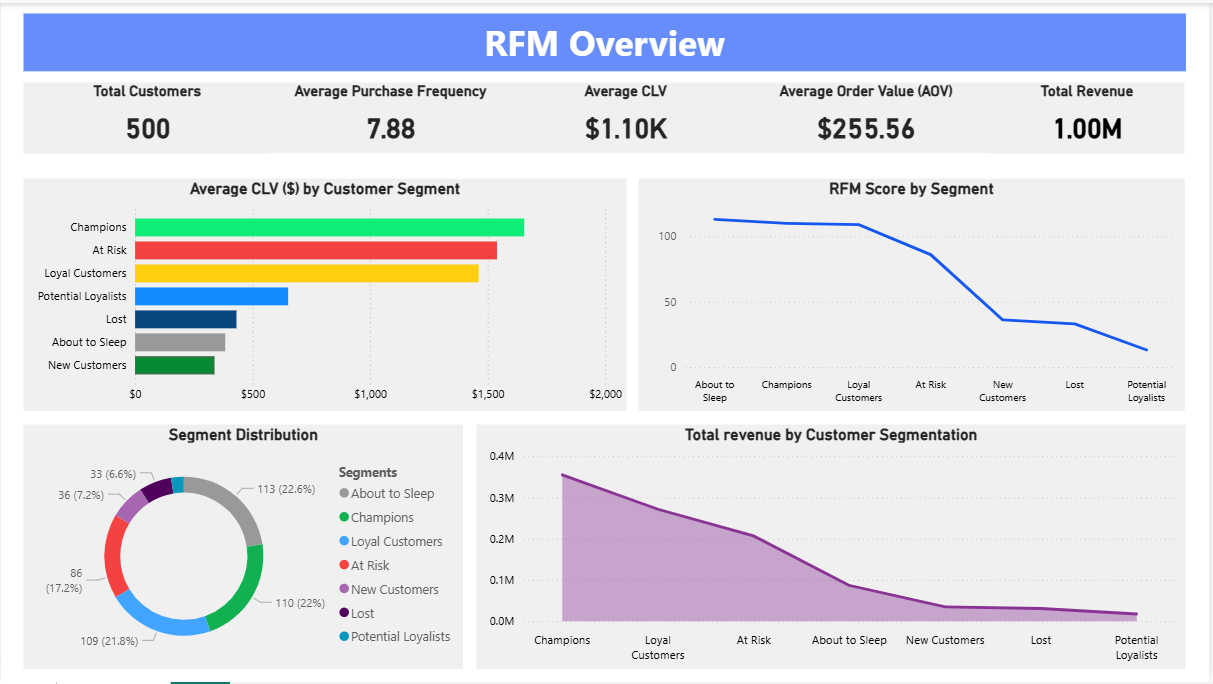

What the dashboard file says about the page in this screenshot:
{"tool":"powerbi","page":{"name":"Page 1","canvas":[1280,720],"ordinal":0},"visuals":[{"type":"card","title":"Total Customers","fields":{"Values":["CountNonNull(customer_lifetime_value.Customer_ID)"]},"box":[23.3,84.9,262.8,75.6],"z":0},{"type":"card","title":"Average CLV","fields":{"Values":["Avg(customer_lifetime_value.CLV_Gross_Revenue)"]},"box":[539.5,84.9,246.5,74.4],"z":1000},{"type":"donutChart","title":"Segment Distribution ","fields":{"Y":["CountNonNull(rfm_segmented.Customer_Segmentation)"],"Category":["rfm_segmented.Customer_Segmentation"]},"box":[23.3,447.7,466.3,259.3],"z":2000},{"type":"barChart","fields":{"Category":["rfm_segmented.Customer_Segmentation"],"Y":["Avg(customer_lifetime_value.CLV_Gross_Revenue)"]},"box":[23.3,186,639.5,246.5],"z":3000},{"type":"textbox","box":[23.3,10.5,1232.6,61.6],"z":4000},{"type":"card","title":"Average Purchase Frequency","fields":{"Values":["Avg(rfm_segmented.Purchase_Frequency )"]},"box":[286,84.9,253.5,74.4],"z":5000},{"type":"card","title":"Total Revenue","fields":{"Values":["rfm_segmented.total revenue"]},"box":[1048.8,84.9,207,75.6],"z":6000},{"type":"card","title":"Average Order Value (AOV)","fields":{"Values":["Avg(customer_LTV.Average_order_value)"]},"box":[786,84.9,262.8,74.4],"z":7000},{"type":"lineChart","title":" RFM Score by Segment","fields":{"Category":["rfm_segmented.Customer_Segmentation"],"Y":["CountNonNull(rfm_segmented.RFM_Score)"]},"box":[676.7,186,579.1,246.5],"z":8000},{"type":"areaChart","title":"Total revenue by Customer Segmentation","fields":{"Category":["rfm_segmented.Customer_Segmentation"],"Y":["rfm_segmented.total revenue"]},"box":[503.5,447.7,752.3,259.3],"z":9000}]}

Visuals, with their boxes in screenshot pixels (x1, y1, x2, y2), scaled from the page's 1280x720 canvas onto the 1213x684 screenshot:
"Total Customers" card: select_region(22, 81, 271, 152)
"Average CLV" card: select_region(511, 81, 745, 151)
"Segment Distribution " donutChart: select_region(22, 425, 464, 672)
barChart - rfm_segmented.Customer_Segmentation x Avg(customer_lifetime_value.CLV_Gross_Revenue): select_region(22, 177, 628, 411)
textbox: select_region(22, 10, 1190, 68)
"Average Purchase Frequency" card: select_region(271, 81, 511, 151)
"Total Revenue" card: select_region(994, 81, 1190, 152)
"Average Order Value (AOV)" card: select_region(745, 81, 994, 151)
" RFM Score by Segment" lineChart: select_region(641, 177, 1190, 411)
"Total revenue by Customer Segmentation" areaChart: select_region(477, 425, 1190, 672)
